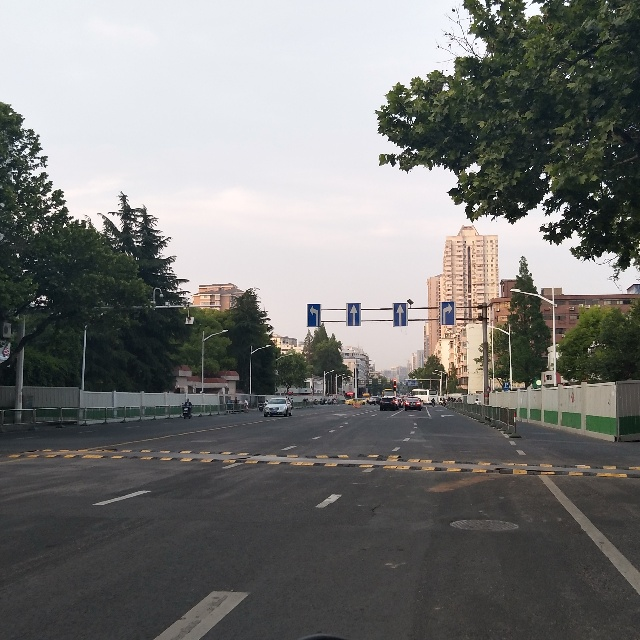left: (308, 302, 321, 327)
right: (437, 302, 456, 324)
straight: (345, 300, 361, 326), (394, 302, 406, 327)
